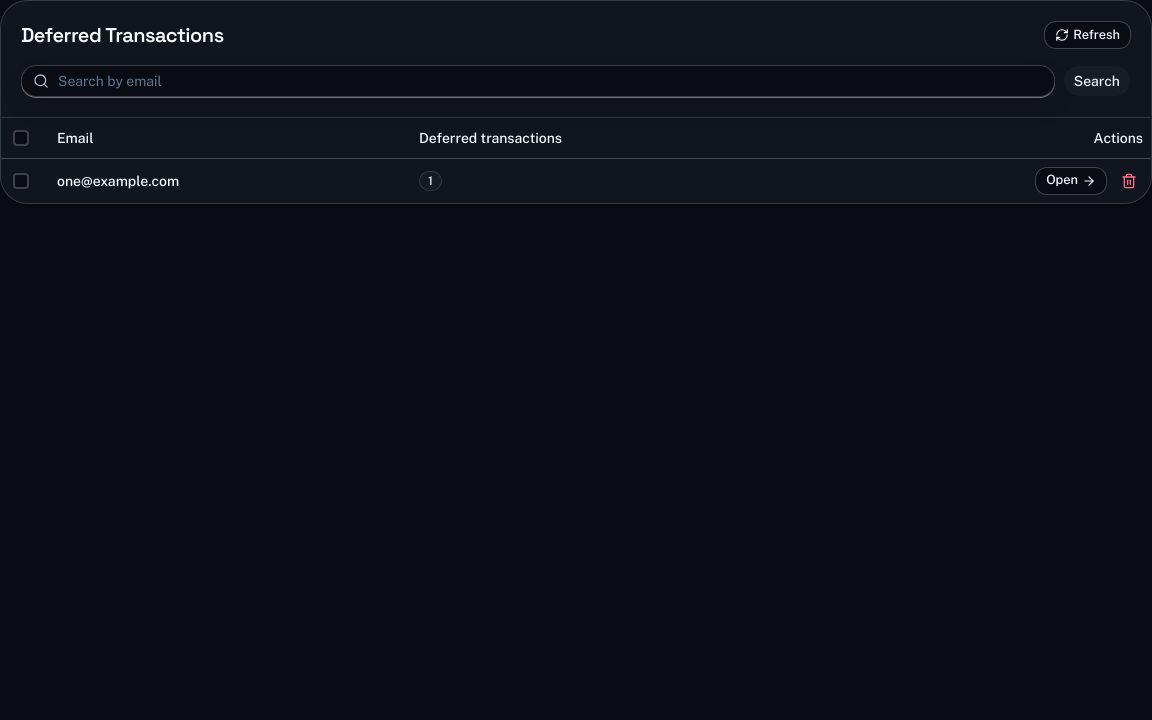
Scenario: deferred service transaction workbenches › uses the same consequence dialog for a single-row delete
The image size is (1152, 720).
Click the button named "Delete deferred index one@example.com" at coordinates (1129, 180), box top-left (1115, 166), bottom-right (1143, 194)
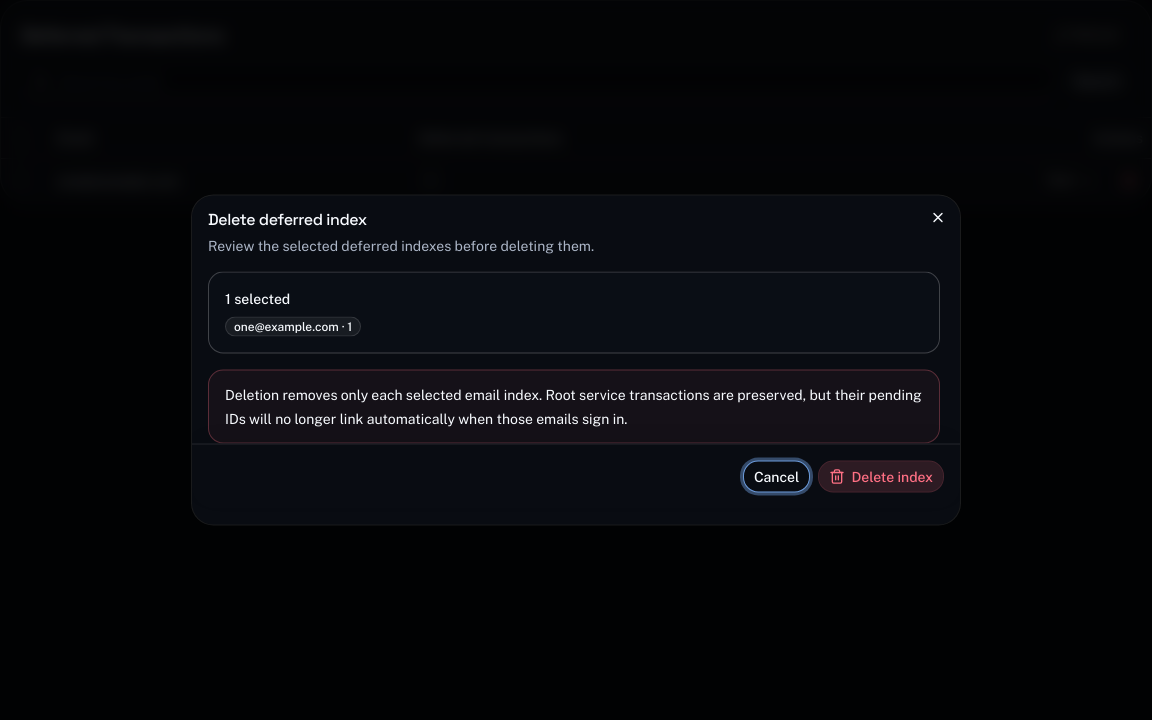
Result: the text "Deletion removes only each selected email index. Root service transactions are preserved, but their pending IDs will no " is shown at top-left (225, 386), bottom-right (922, 426)
Click the button "Cancel" at coordinates (777, 476), box top-left (743, 460), bottom-right (810, 492)
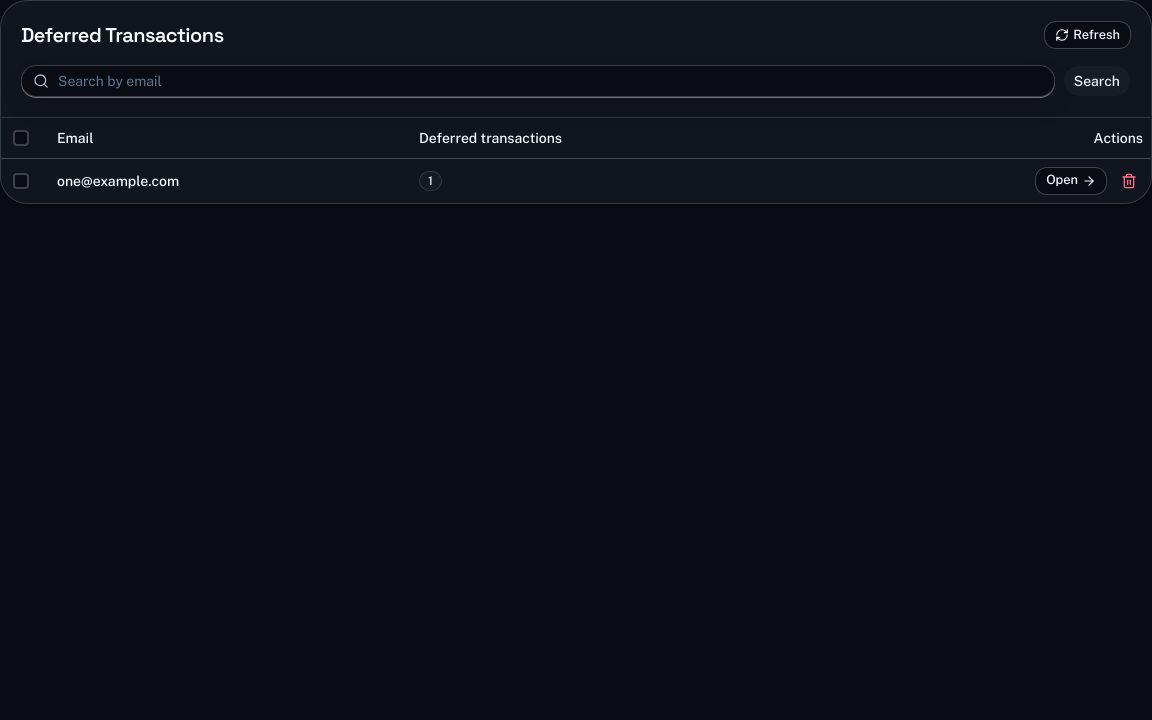
Result: the heading "Delete deferred index" is gone
